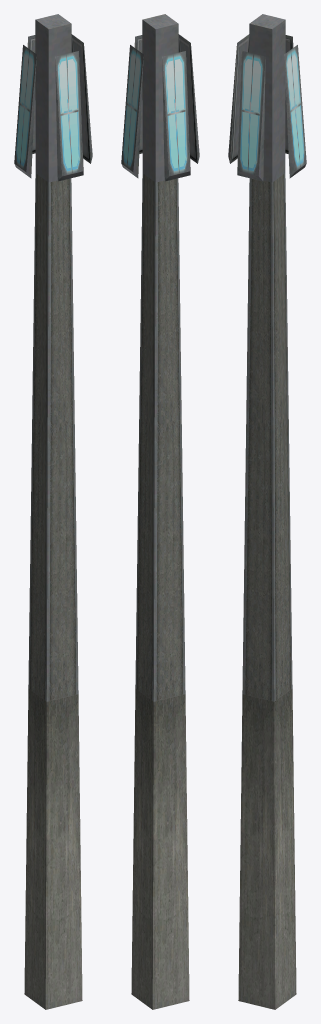
Rendered from frn_all_glow_light_s2_l2.fbx.
3 renders of one model, left to right at view 1: azimuth 30°, elevation 25°; view 2: azimuth 210°, elevation 25°; view 3: azimuth 330°, elevation 25°, orthographic.
Parts seen in each view (by area): view 1: mesh_node; view 2: mesh_node; view 3: mesh_node.
Part boxes in pixels (bbox=[...]): mesh_node: bbox=[14, 14, 92, 1009]; mesh_node: bbox=[121, 14, 199, 1009]; mesh_node: bbox=[228, 14, 306, 1009].
Bounding box in the file's own units: 0.3724 × 5.23 × 0.3724.
Materials: 1 (1 with a texture image).
